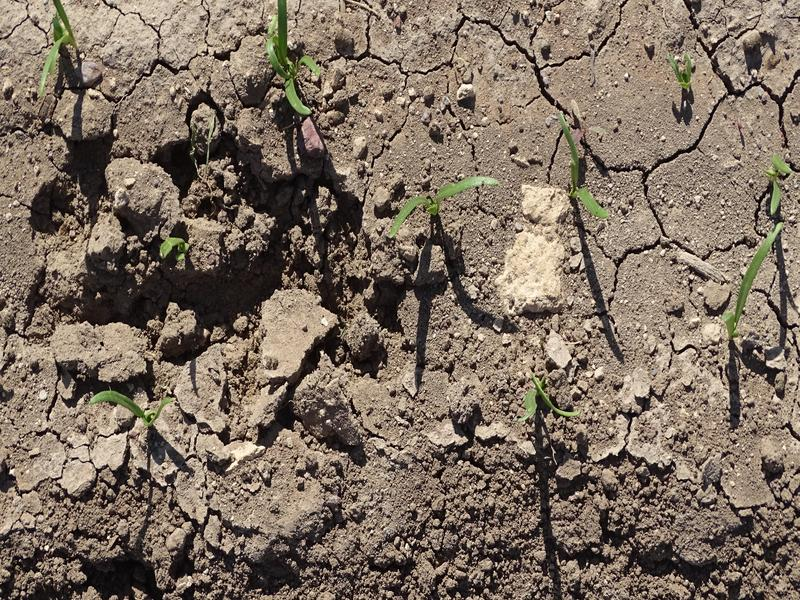Espinaca: (712, 218, 790, 335), (555, 109, 619, 223), (392, 168, 499, 232), (265, 4, 324, 115), (42, 5, 80, 96), (97, 385, 175, 427), (528, 375, 573, 419), (766, 155, 791, 213)
